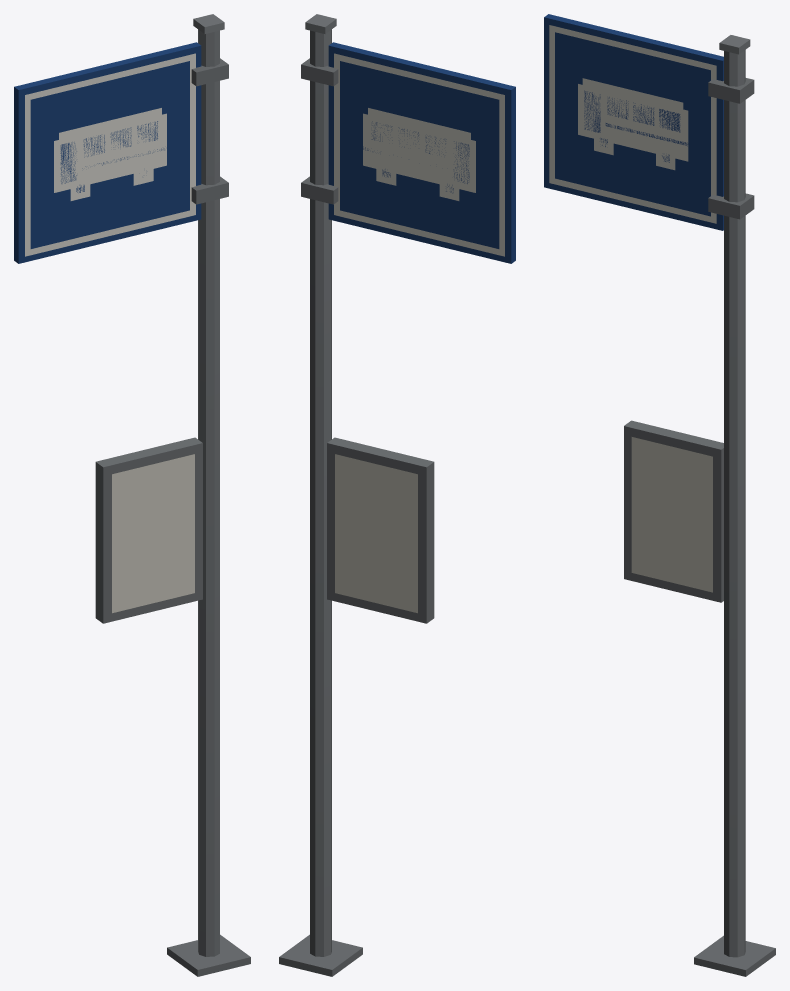
Rendered from street.bus_stop.blue.glb.
The picture shows the model from 3 angles, left to right: view 1: azimuth 30°, elevation 25°; view 2: azimuth 150°, elevation 25°; view 3: azimuth 330°, elevation 25°; orthographic projection. The views are drawn at different scales.
Parts seen in each view (by area): view 1: street_bus_stop_blue; view 2: street_bus_stop_blue; view 3: street_bus_stop_blue.
Part boxes in pixels (x1=…): street_bus_stop_blue: x1=14, y1=14, x2=250, y2=976; street_bus_stop_blue: x1=279, y1=14, x2=515, y2=976; street_bus_stop_blue: x1=544, y1=14, x2=775, y2=976.
Size of what is drawn, in the model's own units: 0.66 by 2.7 by 0.16.
